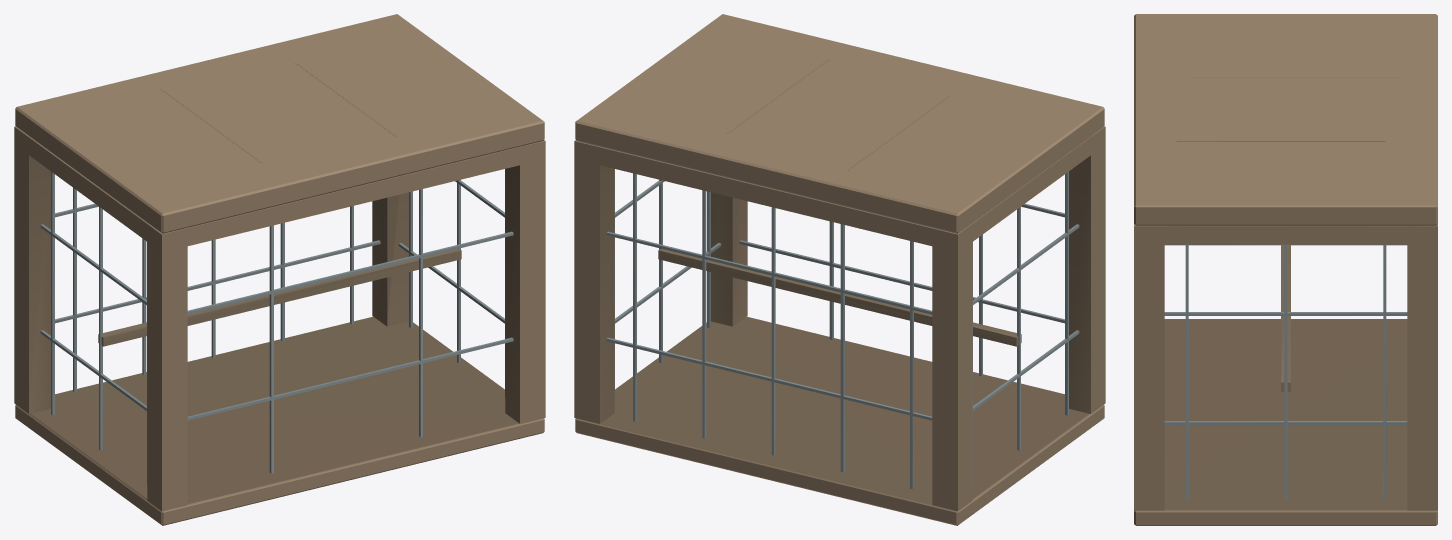
Rendered from furn_insect_case_desk__walnut_low.glb.
The picture shows the model from 3 angles, left to right: view 1: azimuth 30°, elevation 25°; view 2: azimuth 150°, elevation 25°; view 3: azimuth 270°, elevation 25°; orthographic projection. The views are drawn at different scales.
Size of the model in its own units: 0.36 by 0.2801 by 0.24.
